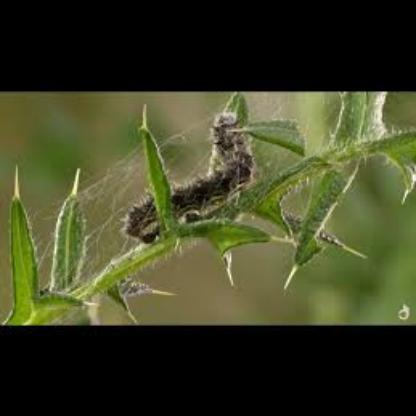oruga: (120, 107, 258, 245)
